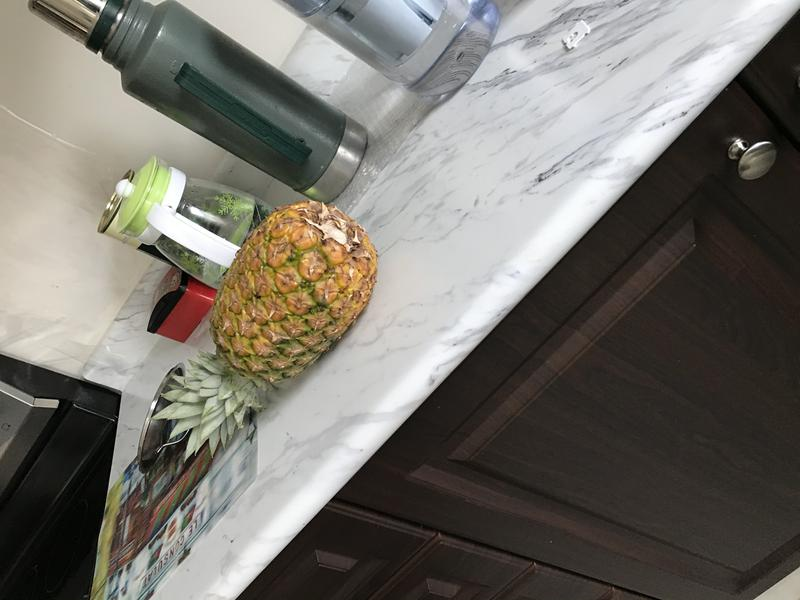pineapple: (147, 186, 392, 471)
